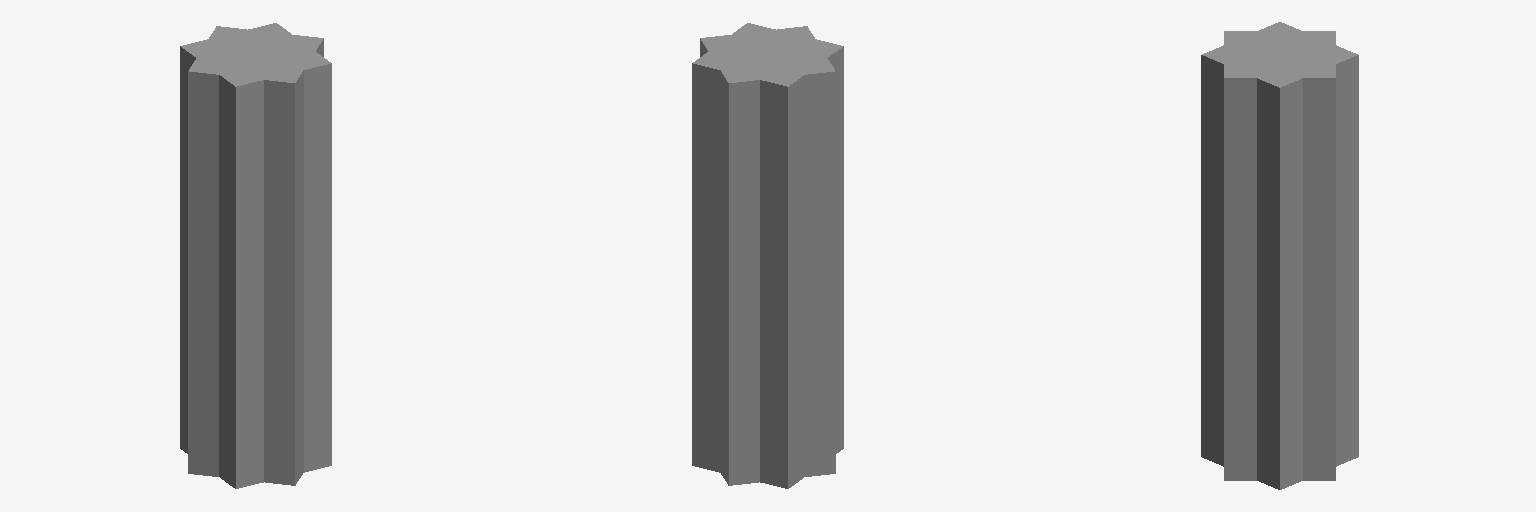
File: shaft.obj
The picture shows the model from 3 angles: view 1: azimuth 30°, elevation 25°; view 2: azimuth 150°, elevation 25°; view 3: azimuth 270°, elevation 25°; orthographic projection.
Visible parts, largest first — view 1: Cube; view 2: Cube; view 3: Cube.
Part boxes in pixels (x1,y1,x2,y2): Cube: (180,23,331,488); Cube: (692,23,843,488); Cube: (1201,22,1358,489).
Size of the model in its own units: 5.66 by 16 by 5.66.